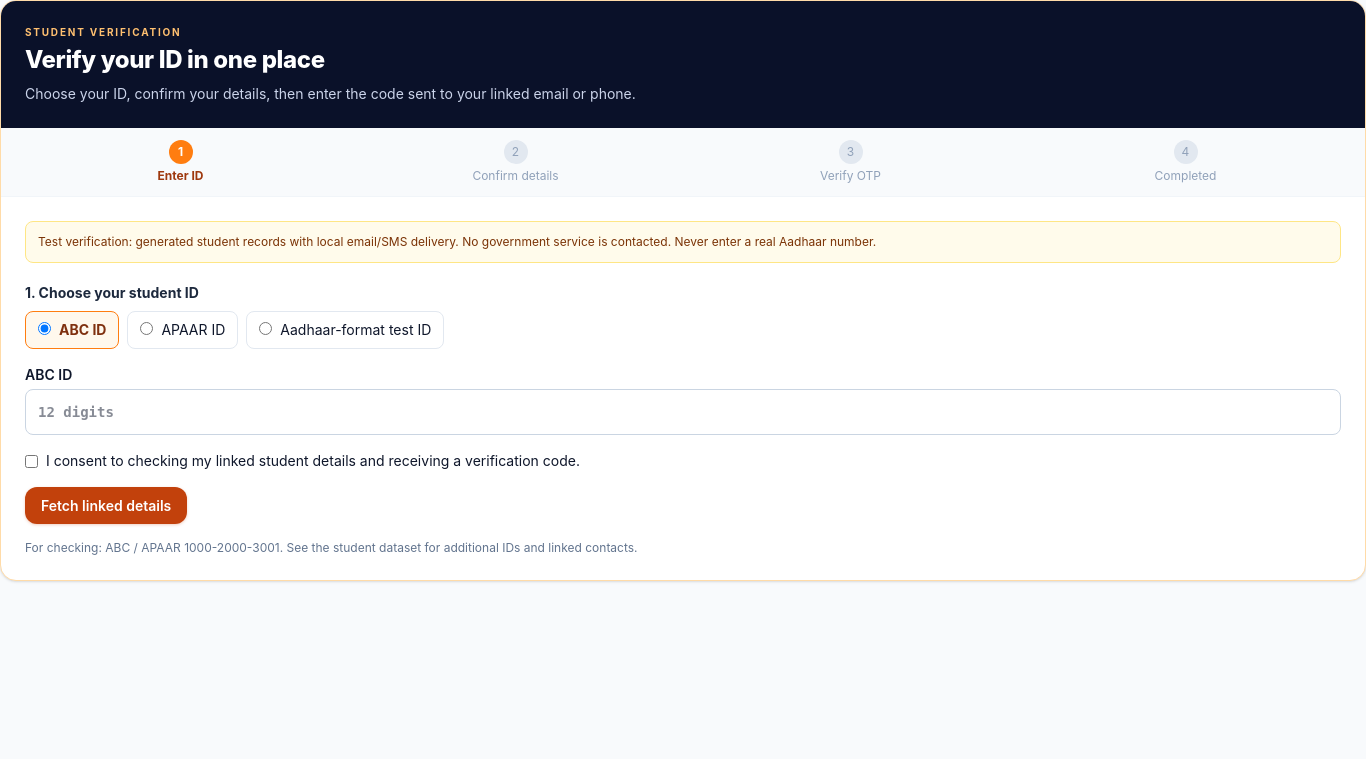
[A-N99] linked SMS selection is sent without accepting a caller-supplied phone number
Step 1. Type "100020003001" into the field named "Student ID number" → [683, 412], box [25, 389, 1341, 435]
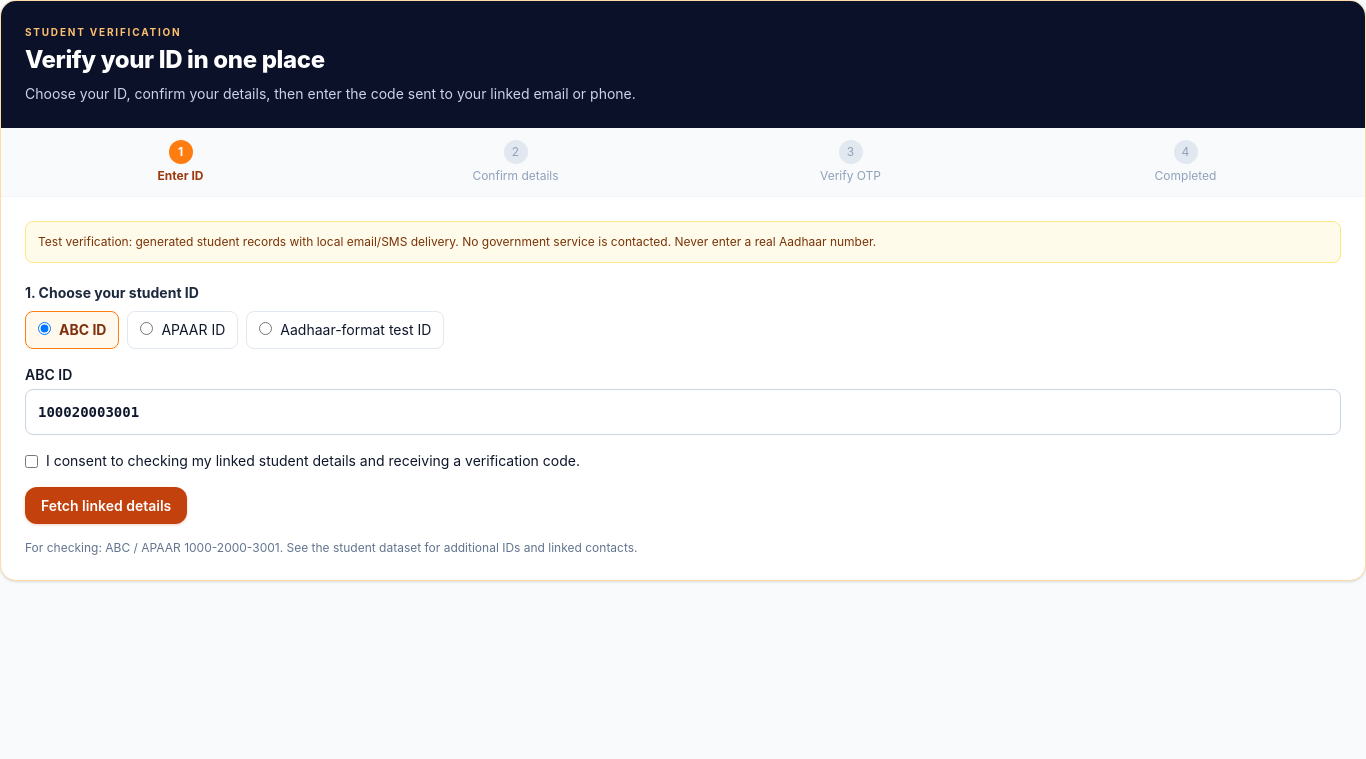
Step 2. Click the checkbox labelled "I consent to checking" → [32, 462], box [25, 455, 38, 468]
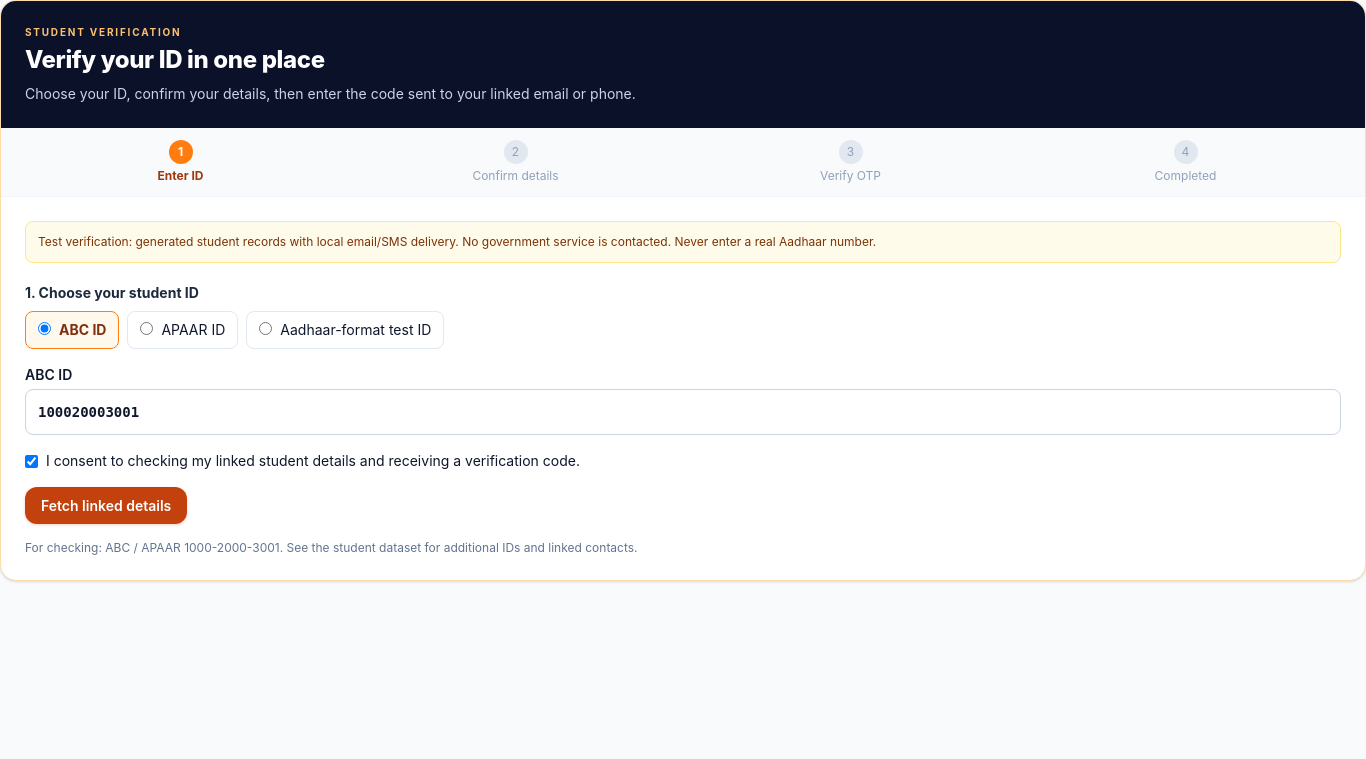
Step 3. Click the button "Fetch linked details" → [106, 506], box [25, 487, 187, 524]
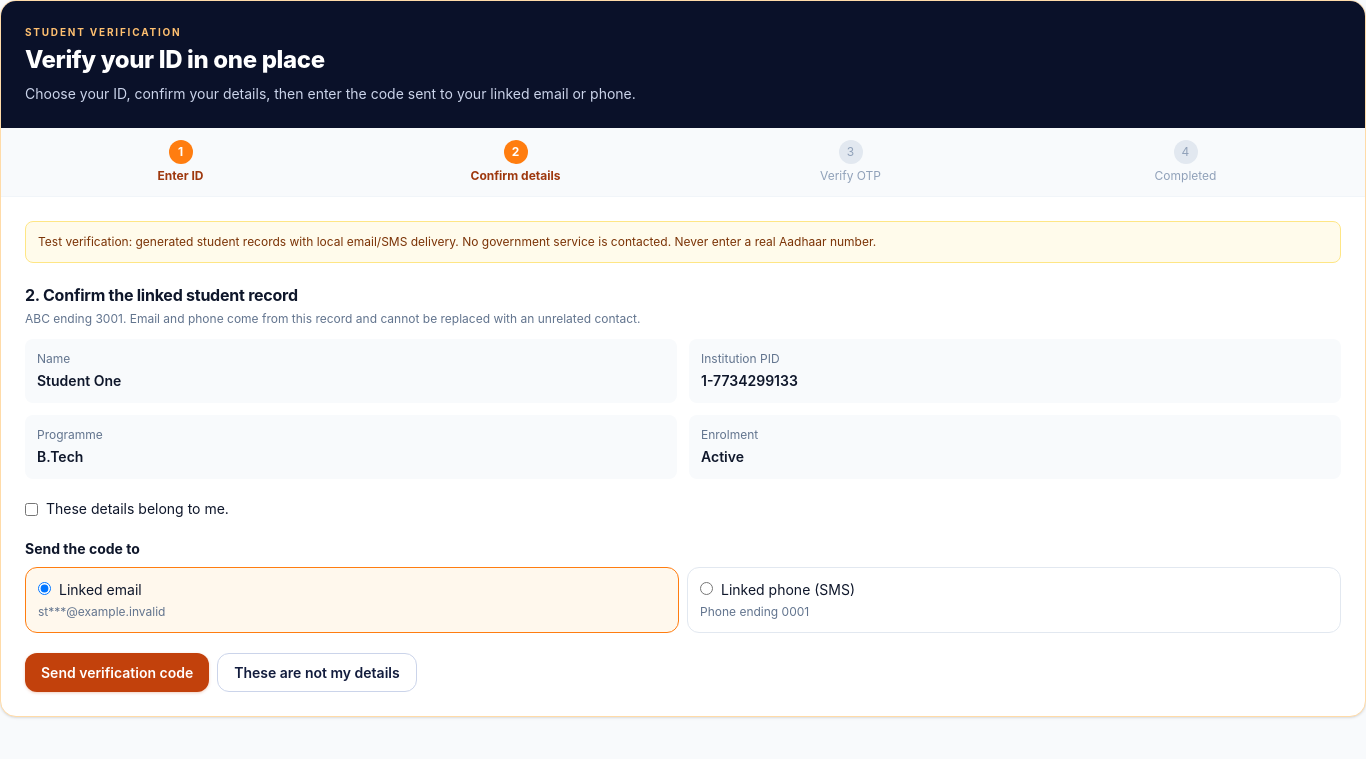
Now the text "Student One" is shown, box [37, 372, 121, 389]
Step 4. Click the checkbox labelled "These details belong to me." → [32, 510], box [25, 503, 38, 516]
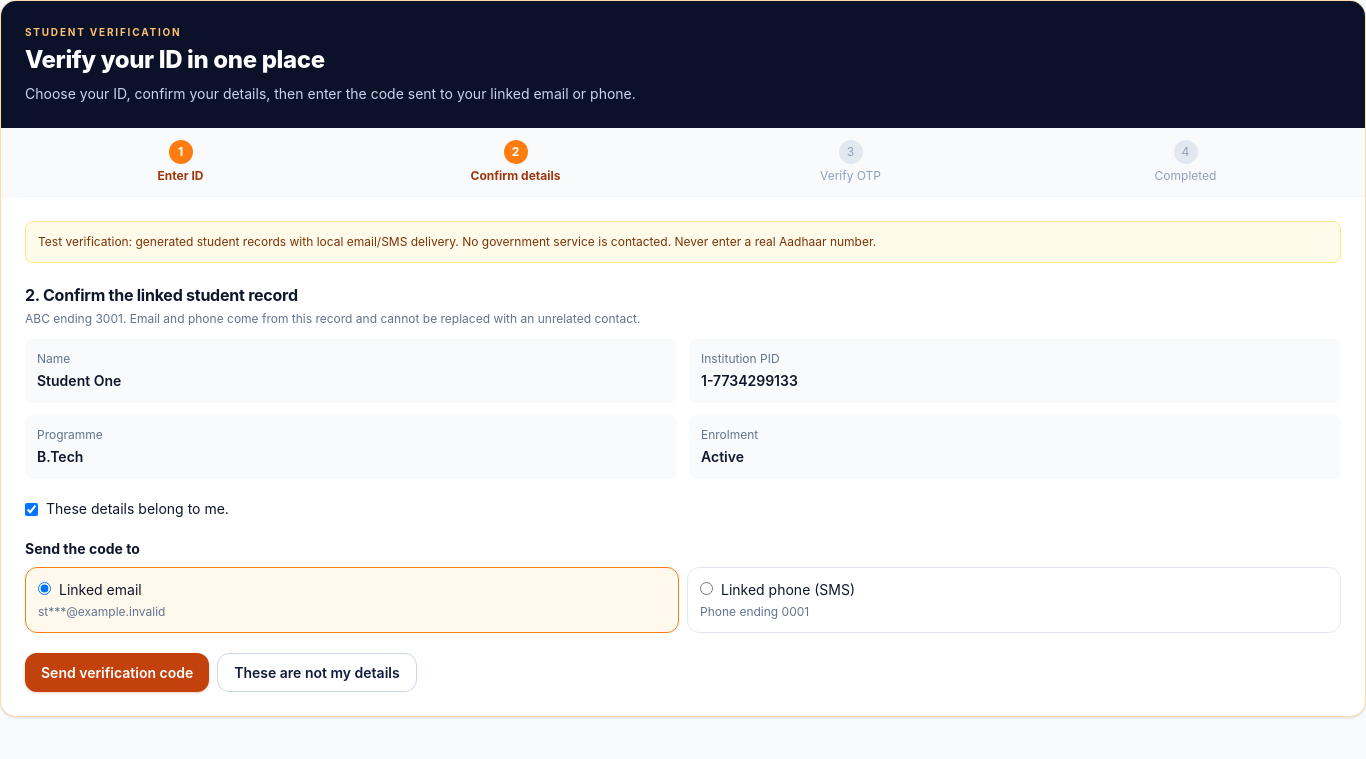
Step 5. Click the radio button labelled "Linked phone (SMS) Phone ending 0001" → [706, 588], box [700, 582, 713, 595]
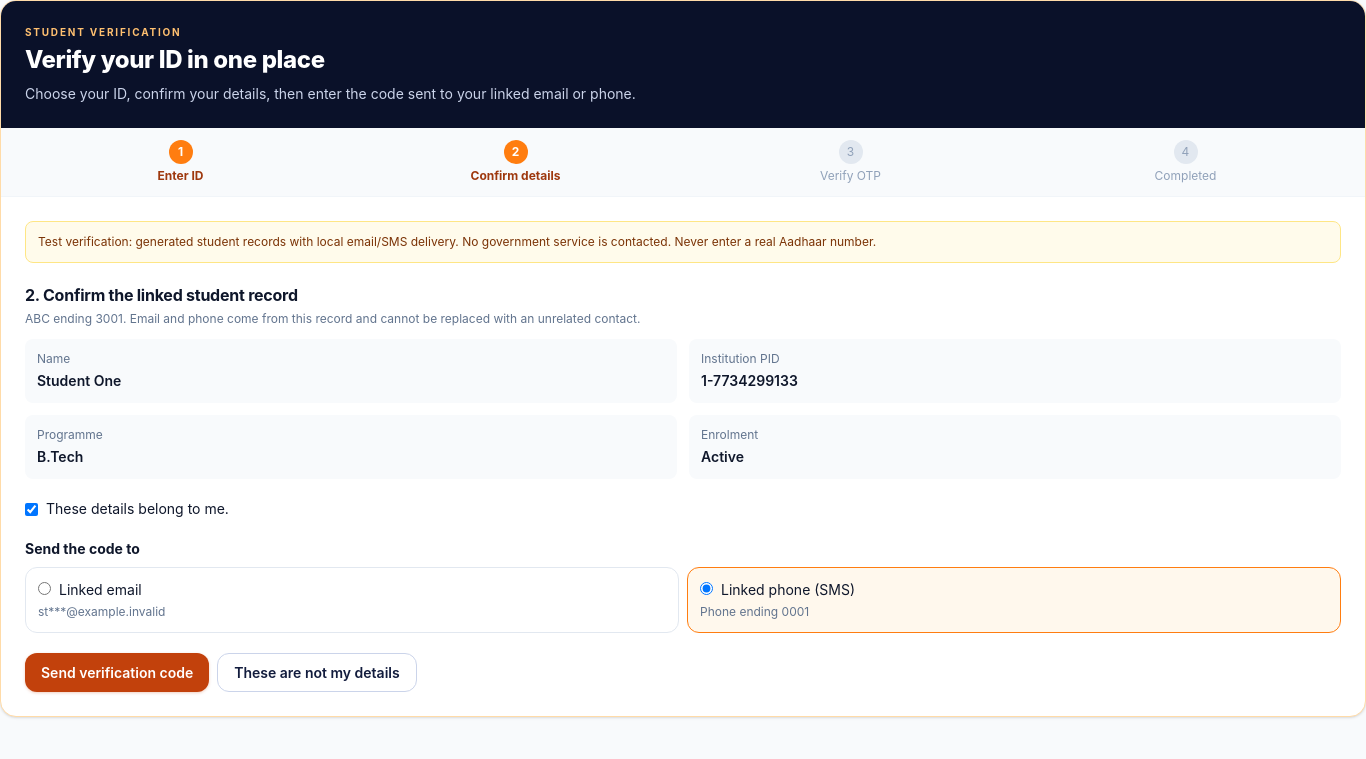
Step 6. Click the button "Send verification code" → [117, 672], box [25, 653, 209, 692]
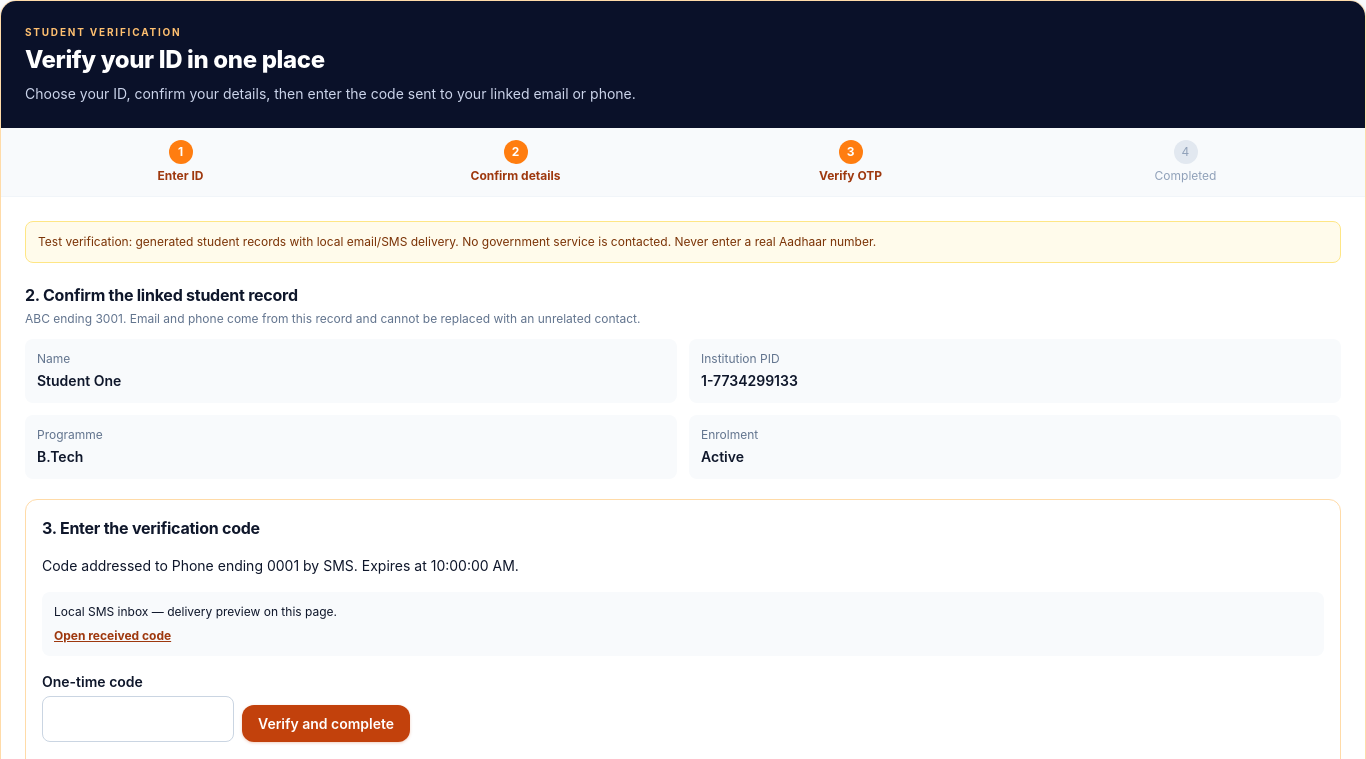
Now the button "Open received code" is shown, box [54, 628, 171, 644]
Now the text "Code addressed to Phone ending 0001 by SMS" is shown, box [42, 557, 519, 574]
